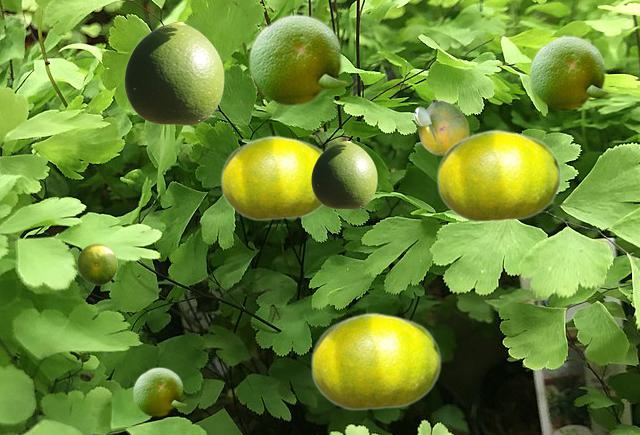dalandan: (310, 312, 440, 410), (436, 129, 560, 222), (124, 22, 223, 124), (247, 12, 348, 105), (220, 135, 323, 220), (528, 34, 610, 110), (311, 141, 376, 208), (413, 100, 468, 154), (132, 366, 186, 416), (77, 243, 116, 284)
